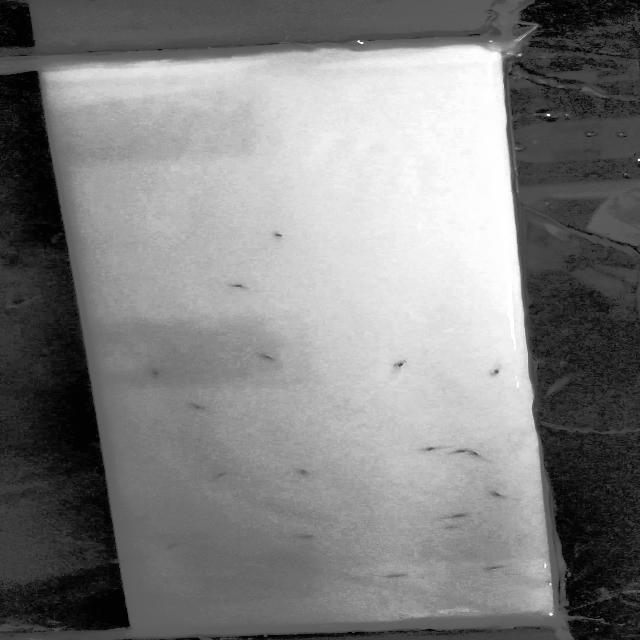shrimp: (220, 278, 253, 296), (259, 226, 293, 241), (141, 370, 173, 384), (474, 365, 504, 378), (251, 349, 278, 363), (108, 556, 148, 565), (397, 357, 419, 372), (442, 508, 472, 519), (477, 566, 514, 574), (156, 540, 184, 550), (414, 444, 447, 452), (208, 473, 234, 483), (449, 446, 474, 456), (182, 403, 205, 413), (442, 522, 467, 531), (489, 489, 513, 498), (378, 572, 414, 578), (296, 468, 314, 478), (471, 453, 492, 461), (294, 534, 322, 540)
